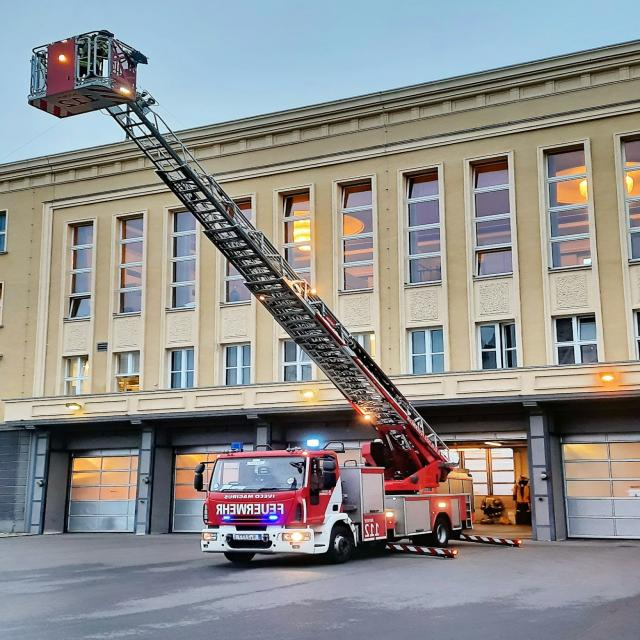emergency: (28, 31, 473, 562)
